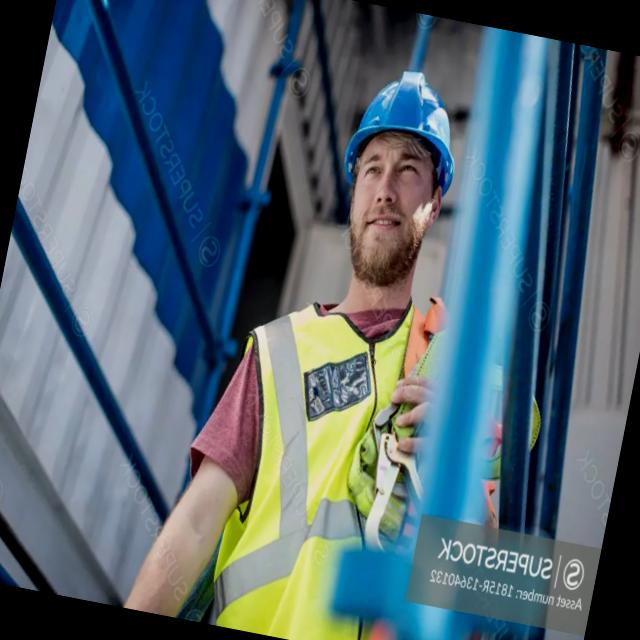helmet: (353, 58, 465, 160)
no-goggles: (345, 142, 450, 207)
vest: (189, 298, 449, 640)
